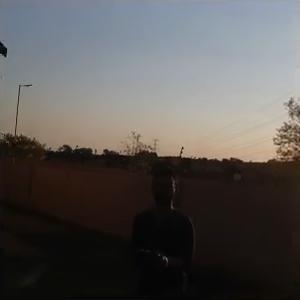follow: (119, 152, 195, 298)
